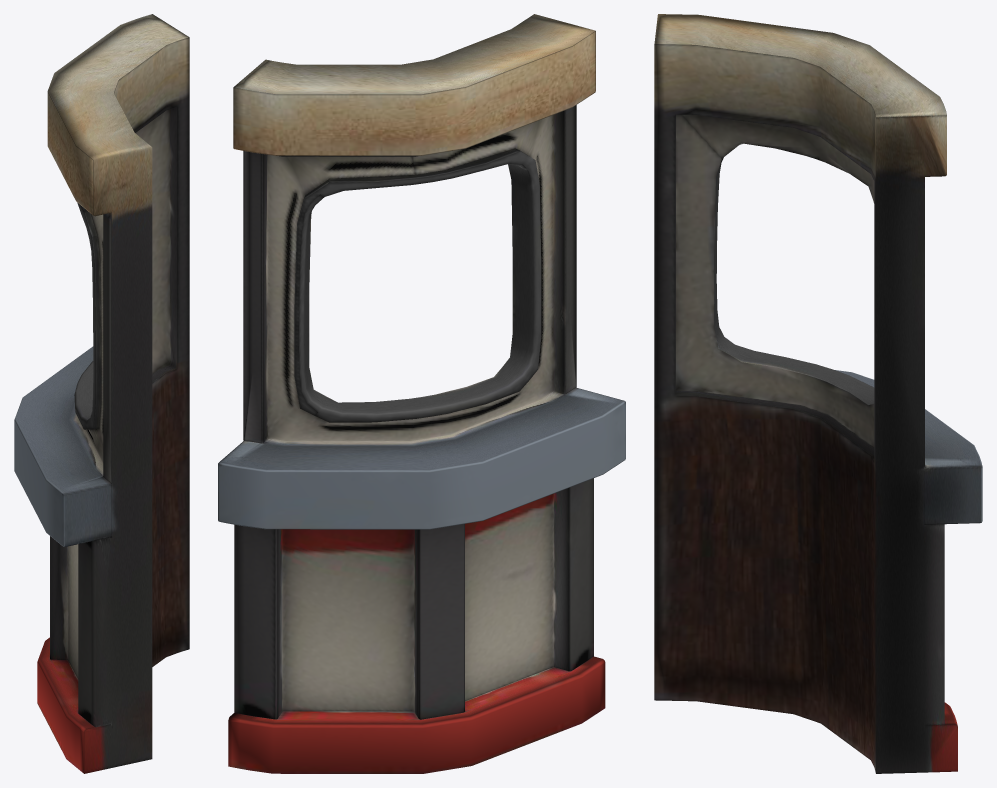
The model's file is D_CurvedWindowBL.fbx.
3 views of the same model, side by side, from view 1: azimuth 30°, elevation 25°; view 2: azimuth 150°, elevation 25°; view 3: azimuth 270°, elevation 25° (orthographic). The views are drawn at different scales.
Parts seen in each view (by area): view 1: pCube58; view 2: pCube58; view 3: pCube58.
Boxes of the visible parts, <box> form: pCube58: <box>14,14,189,773</box>; pCube58: <box>218,14,625,773</box>; pCube58: <box>654,14,982,773</box>.
Size of the model in its own units: 2.07 by 5.35 by 2.42.
1 material, 1 textured.
